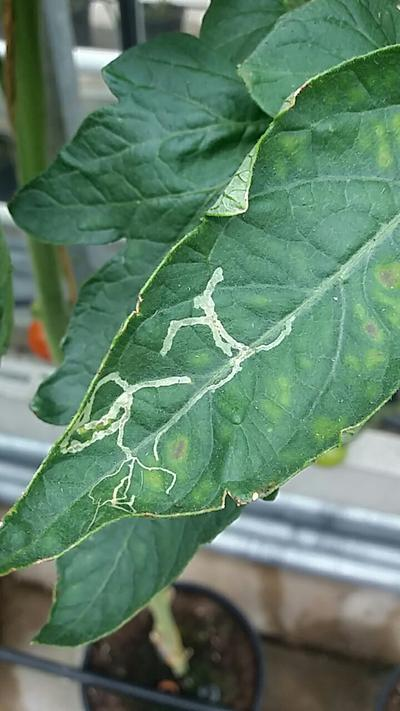Leaf_Miner: (0, 30, 400, 578)
